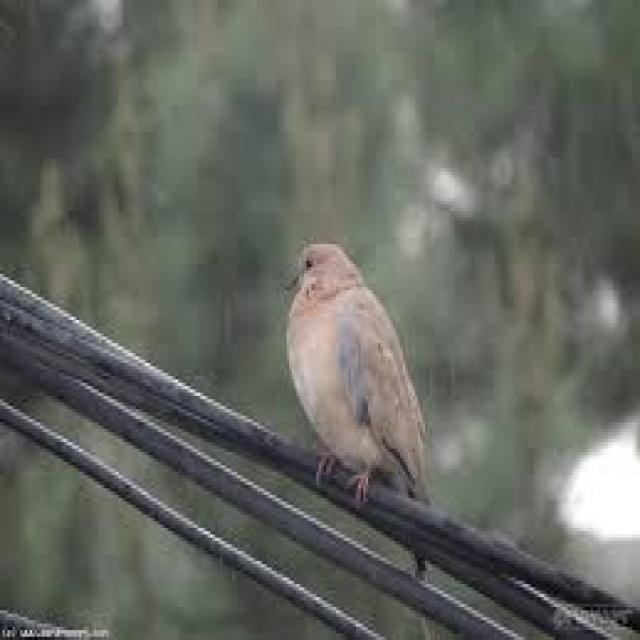bird: (282, 234, 441, 508)
